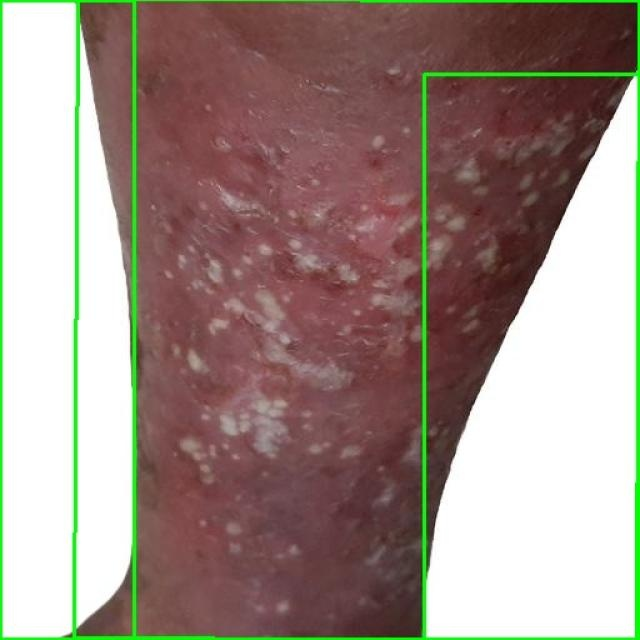Eczema: (75, 0, 639, 640), (424, 74, 639, 639), (0, 0, 134, 639)
